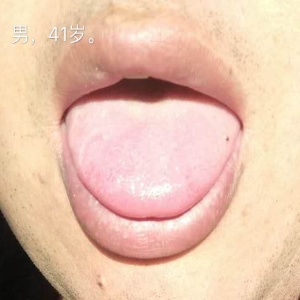st: (63, 112, 246, 216)
